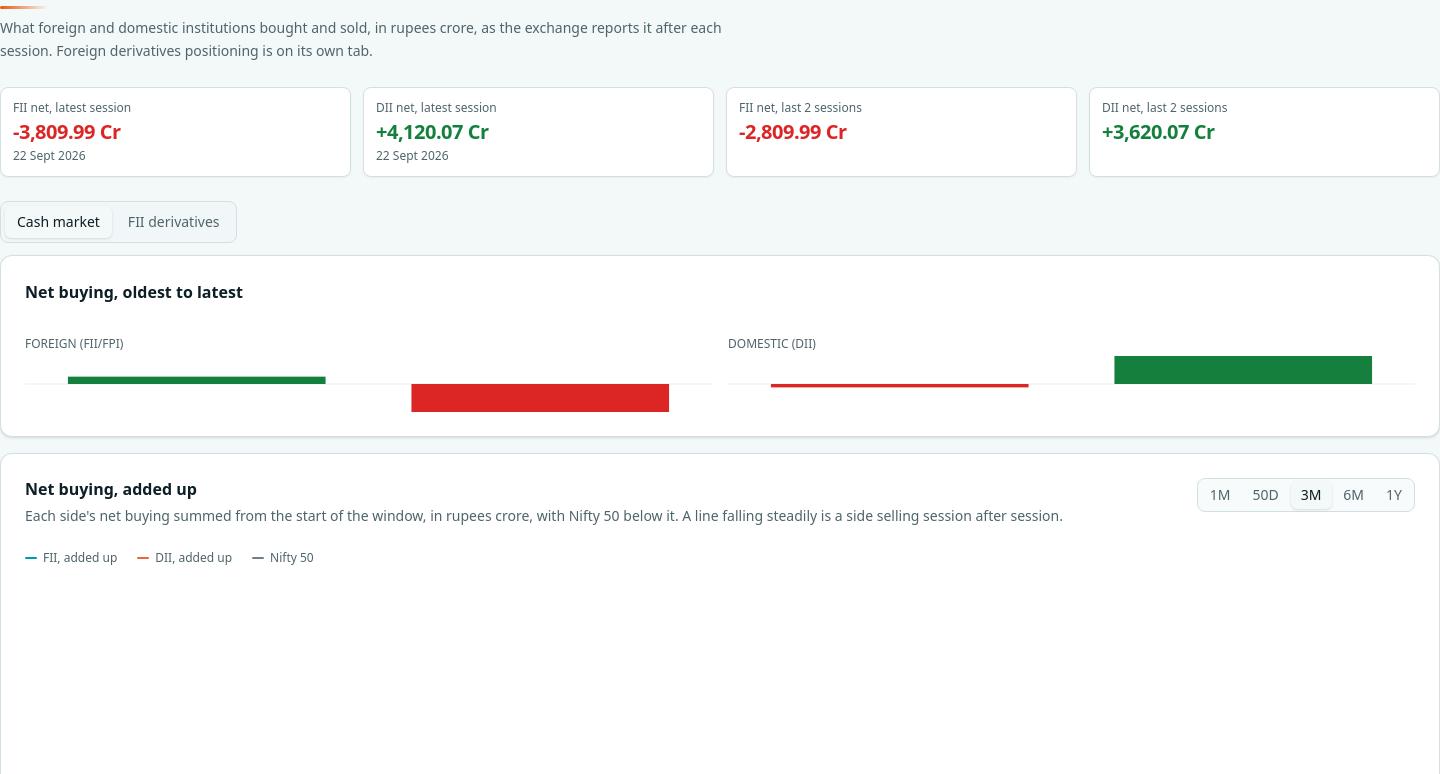
it: Flows › shows foreign derivatives positioning with the share held long
The width and height of the screenshot is (1440, 774).
Step 1. Click the tab "FII derivatives" → (174,222), box left=116, top=206, right=232, bottom=238
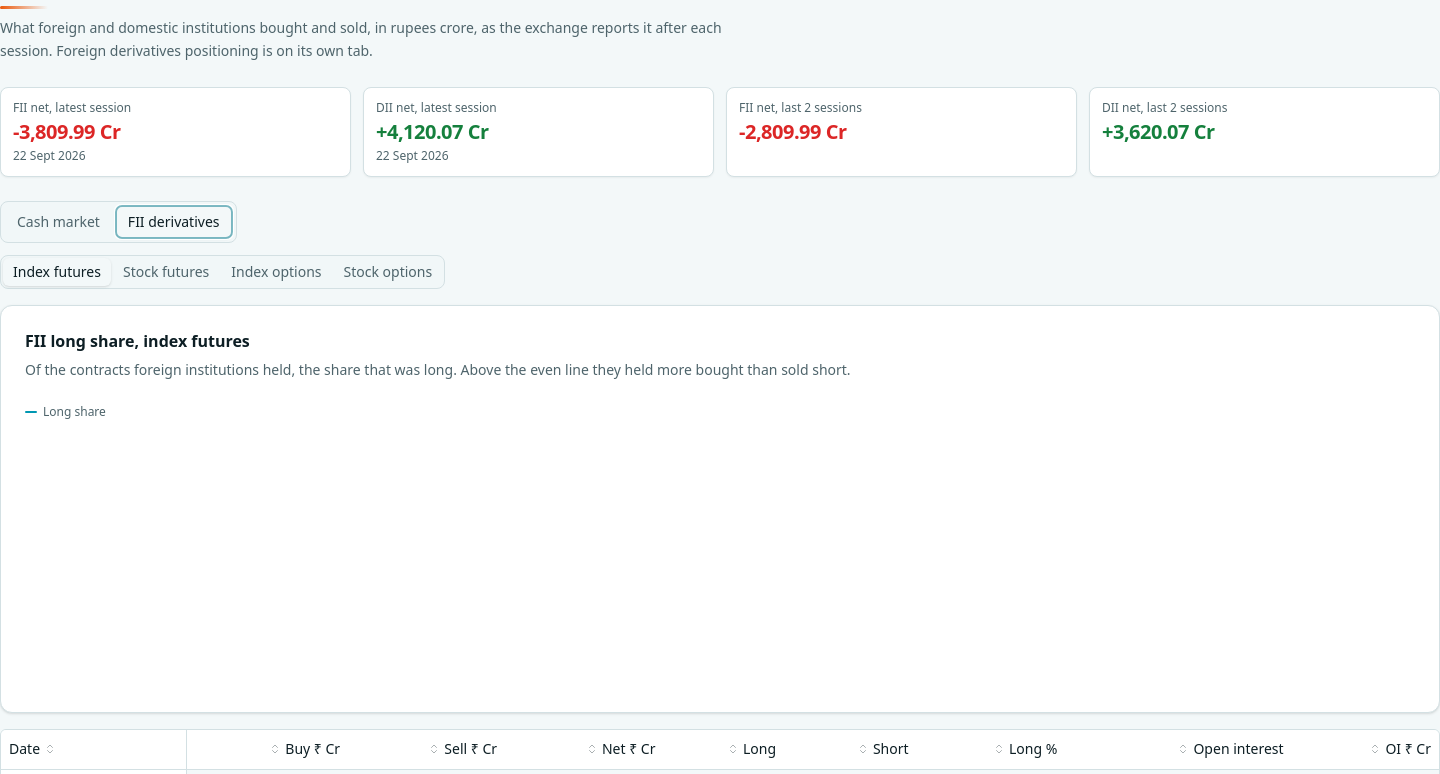
Step 2. Click the button "Stock futures" → (166,272), box left=113, top=258, right=219, bottom=286
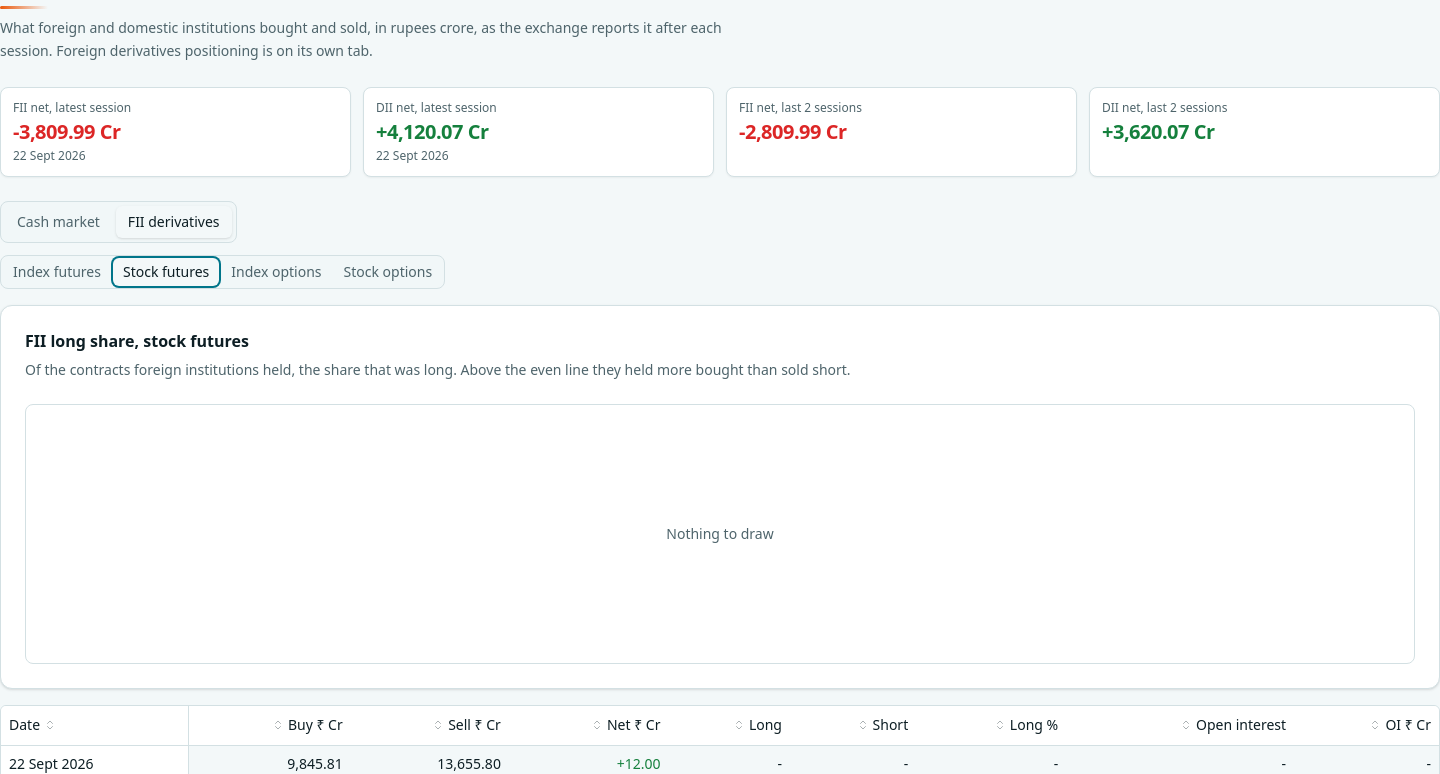
Expected: the text "+12.00" shows "-", left=777, top=754, right=782, bottom=773
Step 3. Click the button "Stock options" → (388,272), box left=334, top=258, right=442, bottom=286
(page scrolled)
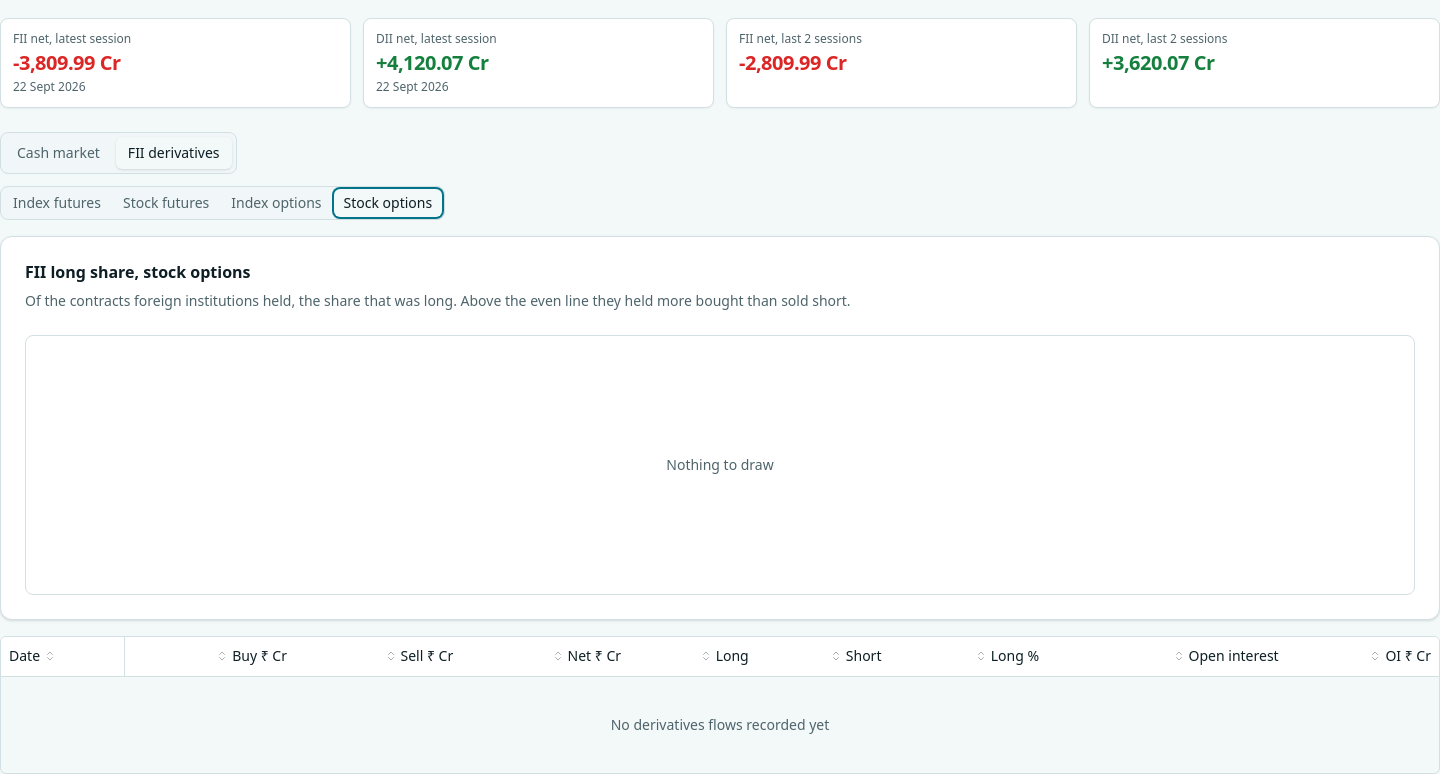
Now the text "No derivatives flows recorded yet" is shown, box left=1, top=676, right=1439, bottom=772
